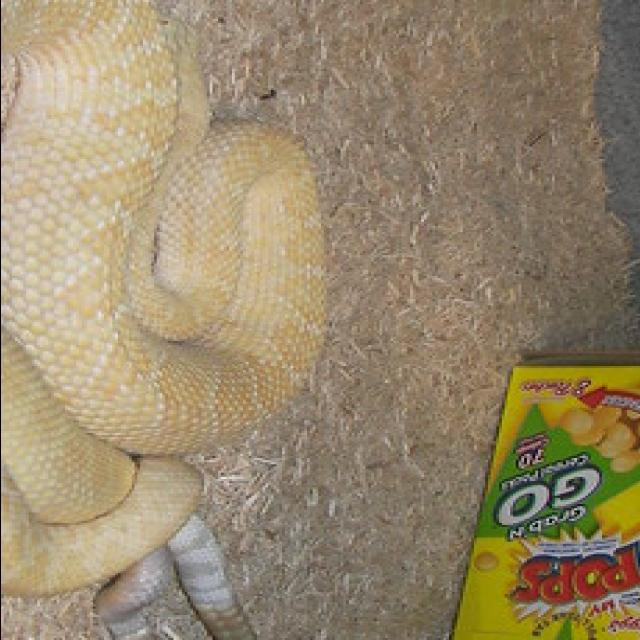Snake: (1, 0, 337, 640)
